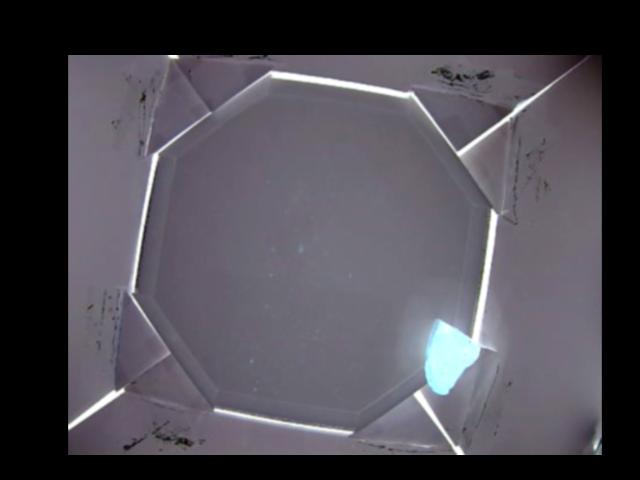Brisk: (422, 320, 482, 397)
